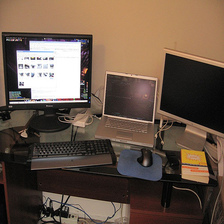laptop: (83, 69, 170, 150)
